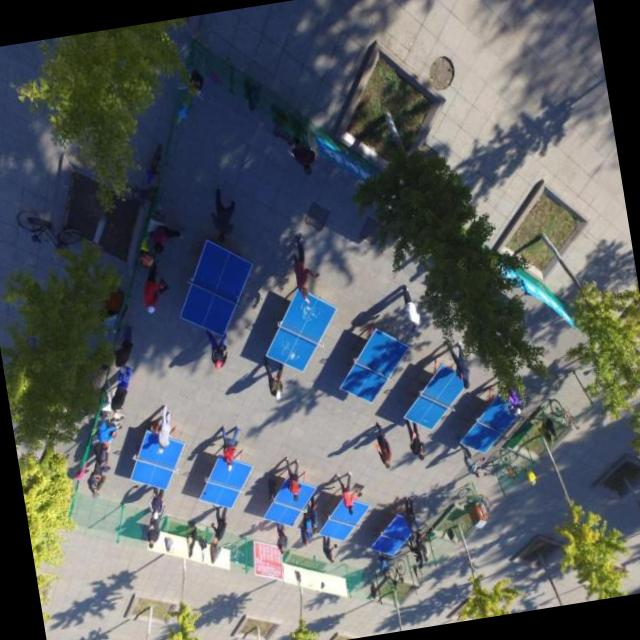person: (282, 230, 322, 309), (202, 181, 249, 248), (102, 360, 144, 418), (110, 320, 144, 374), (200, 321, 236, 372), (139, 260, 172, 314), (260, 352, 292, 406), (446, 331, 474, 391), (217, 422, 247, 474), (369, 420, 396, 476), (398, 281, 424, 336), (150, 402, 176, 457), (281, 454, 308, 504), (334, 469, 362, 516), (407, 413, 428, 465)
